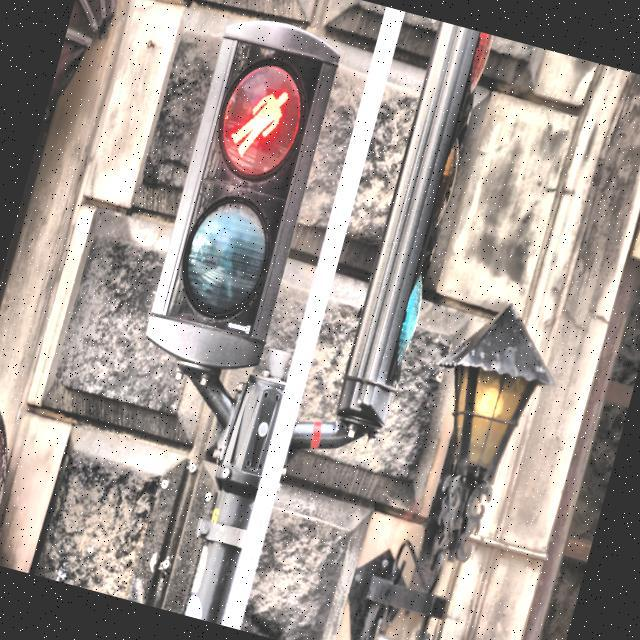red_light: (222, 72, 292, 170)
